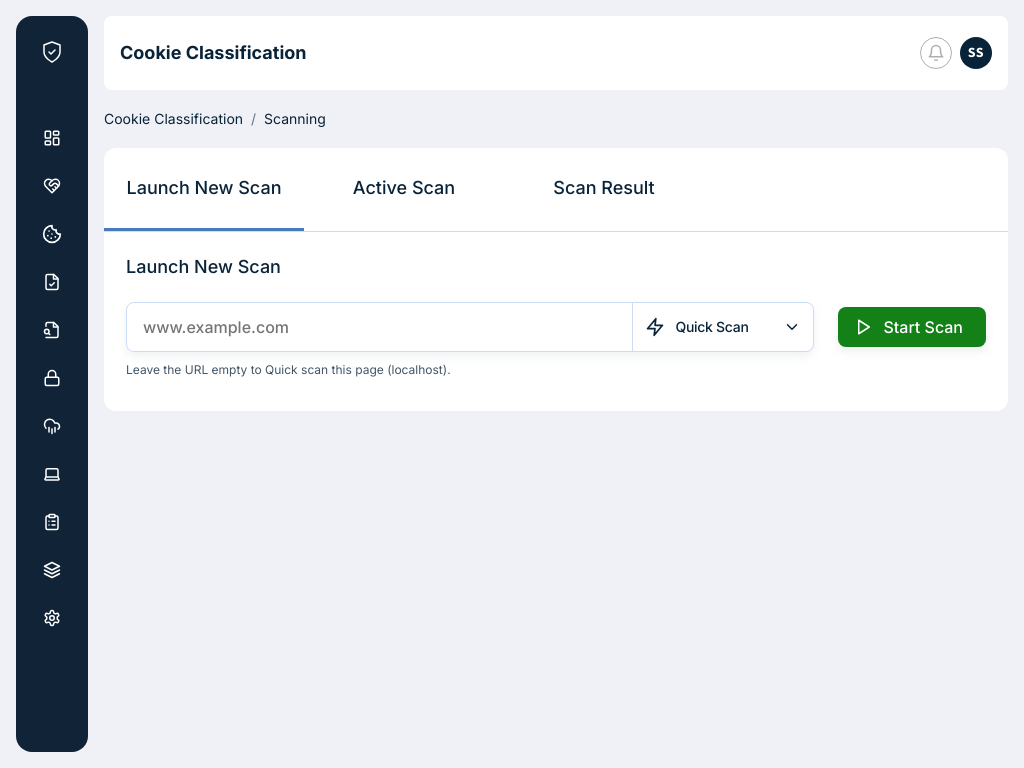
Test case: Quick scan from Launch New Scan (App wiring) › ISSUE-001: shows the failed scan on Active Scan instead of a browser alert
The width and height of the screenshot is (1024, 768).
In the field named "Website URL": (388, 327) [143,303,632,351], type "https://shop.com"
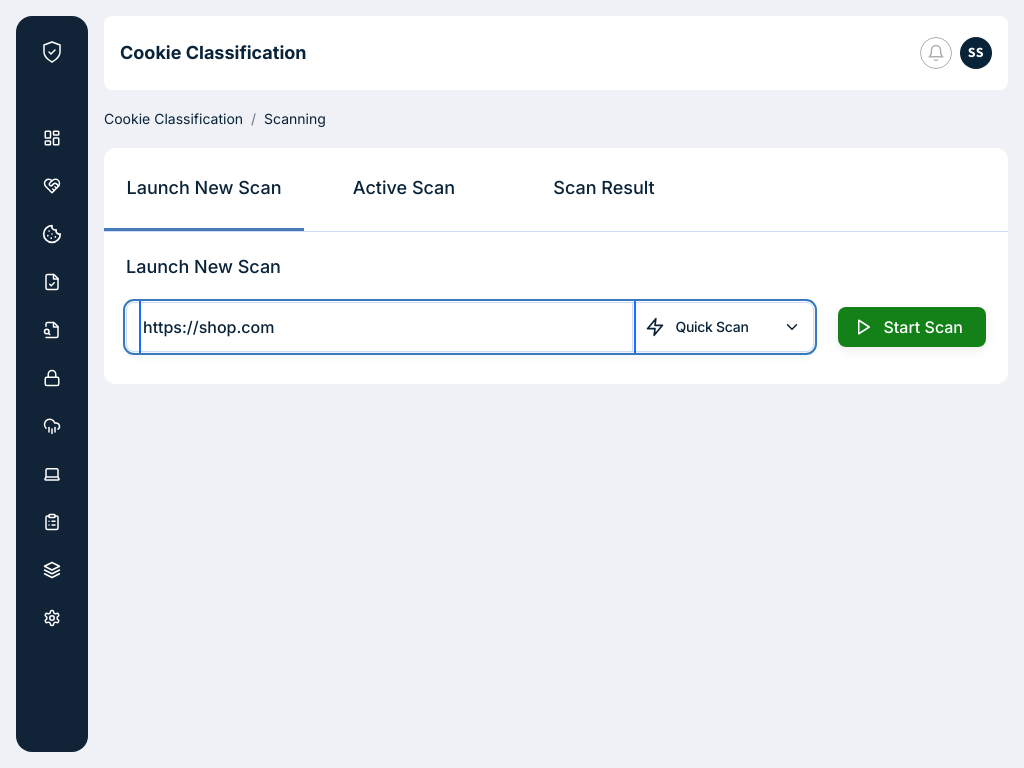
Click the button "Start Scan": (912, 327) [838,307,986,347]
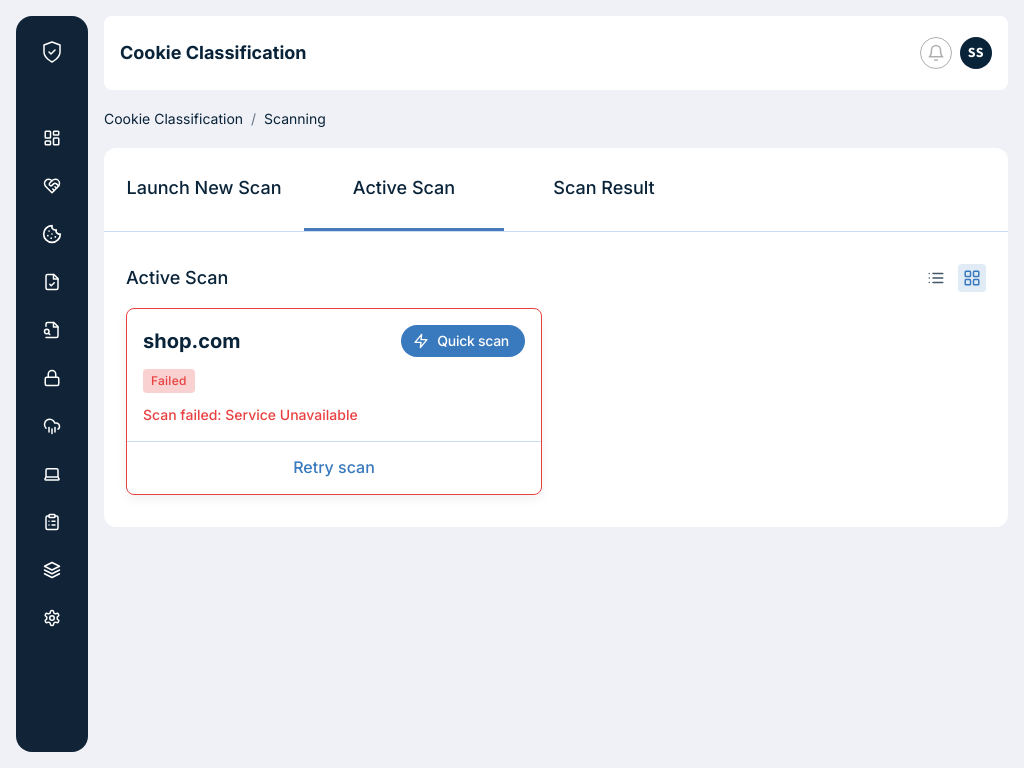
Now the text "Scan failed: Service Unavailable" is shown, box [143,406,358,423]
Now the button "Retry scan" is shown, box [127,442,541,494]
